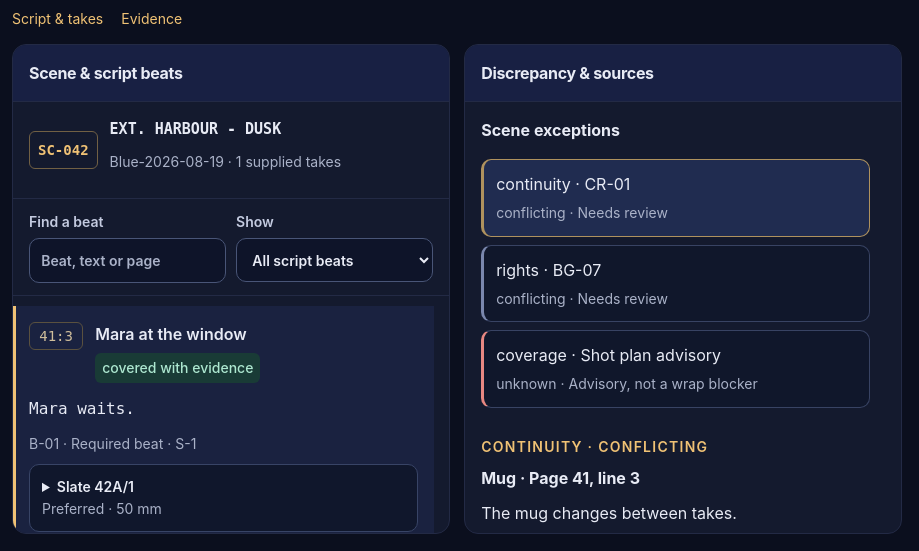
it: scene workspace › filters script, opens evidence, inspects conflicting camera metadata
(page scrolled)
expect the link "coverage · Shot plan advisory" is shown: met, box [481,330,870,408]
Click the text "Slate 42A/1" at coordinates (76, 487), box [57,478,134,496]
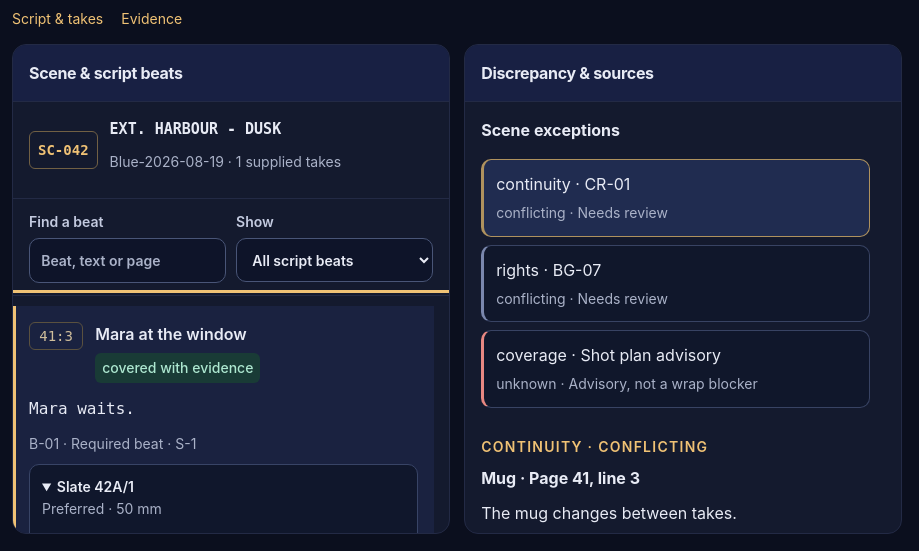
Select "Beats with exceptions" in the dropdown labelled "Show" at coordinates (335, 260), box [236,238,433,282]
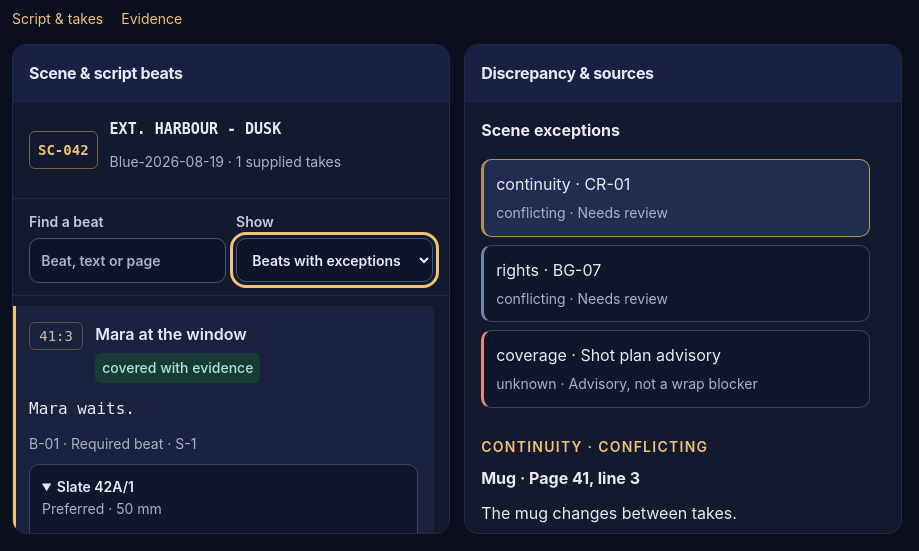
expect the text "Delphine reacts" is not shown: met
Type "missing" into the search field at coordinates (128, 260), box [29,238,226,283]
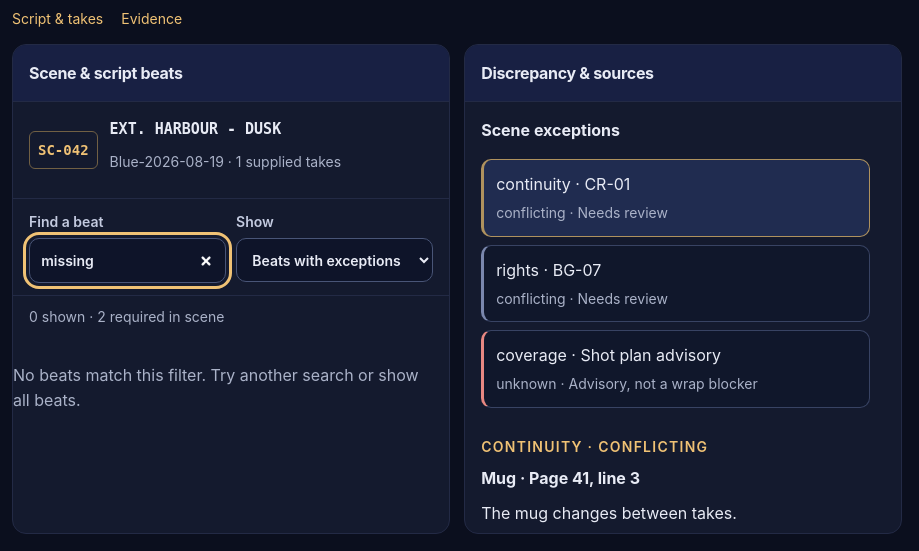
expect the text "No beats match" is shown: met, box [13,365,418,410]
